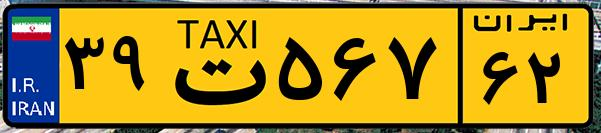2: (525, 38, 570, 115)
3: (57, 26, 110, 100)
5: (270, 28, 330, 110)
6: (330, 28, 385, 110), (475, 38, 525, 113)
7: (385, 28, 445, 110)
9: (110, 28, 158, 98)
ت: (158, 12, 270, 120)
